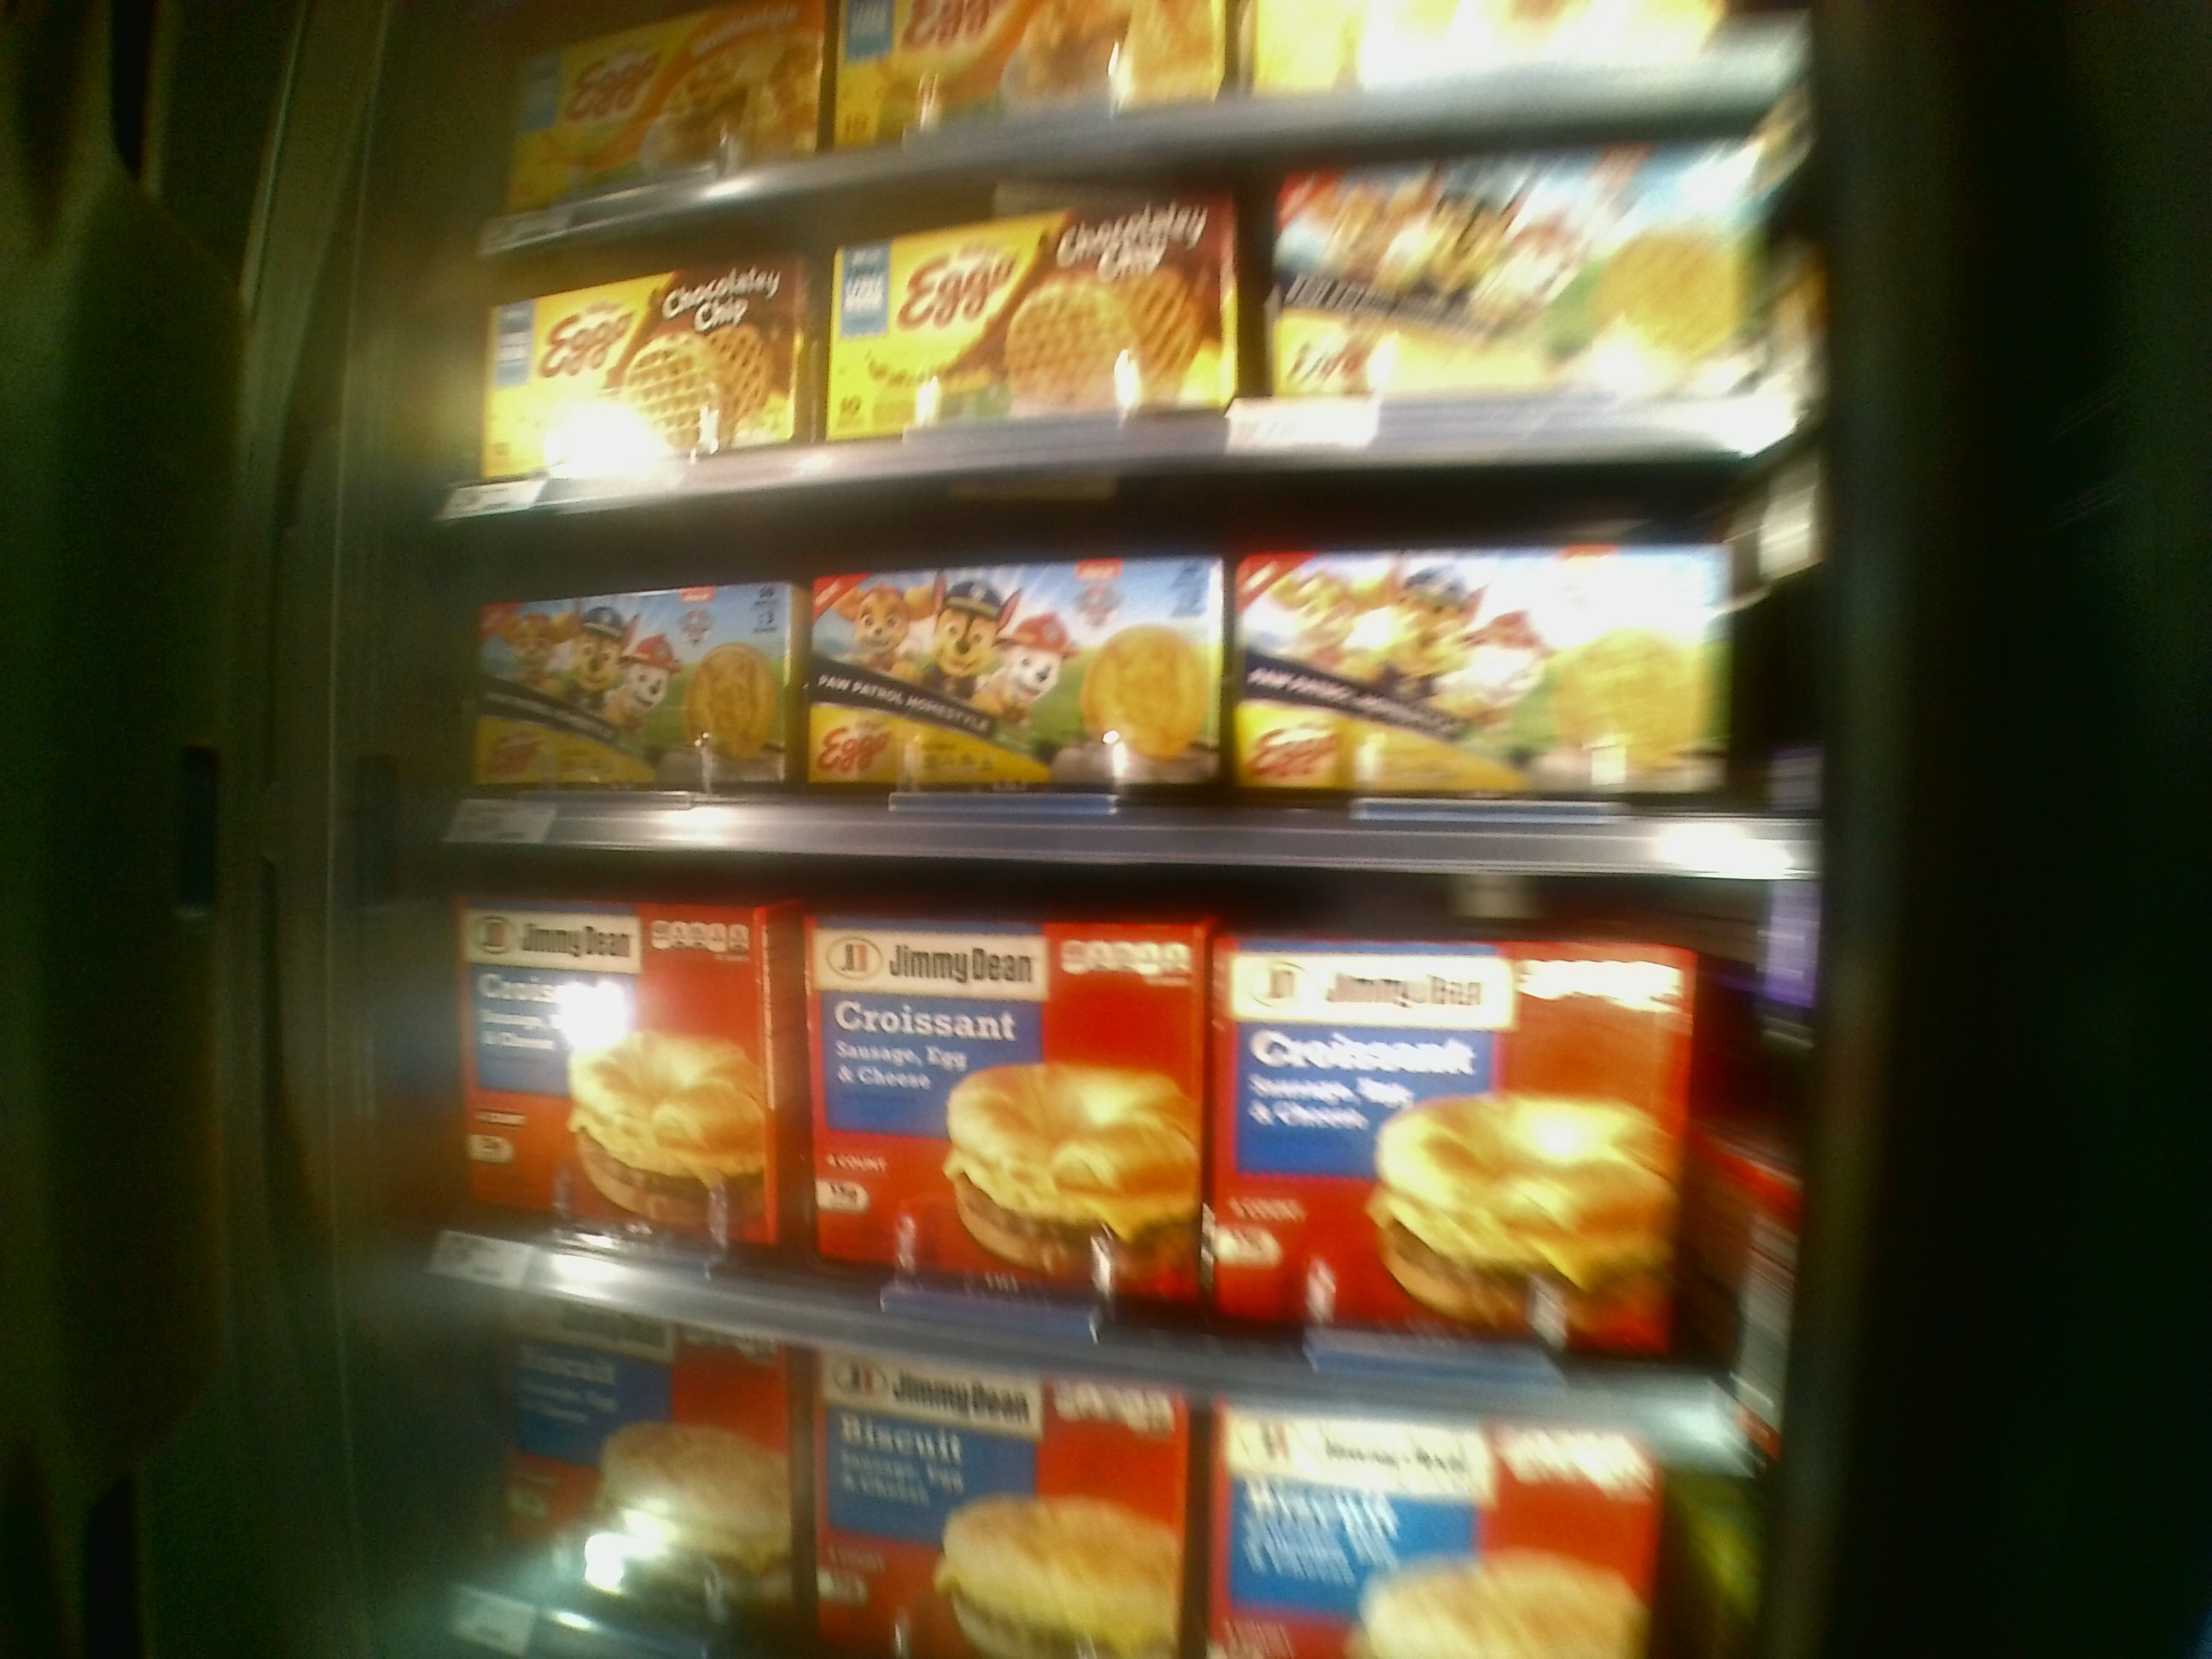shelf: (425, 843, 1797, 1429), (435, 471, 1810, 878)
